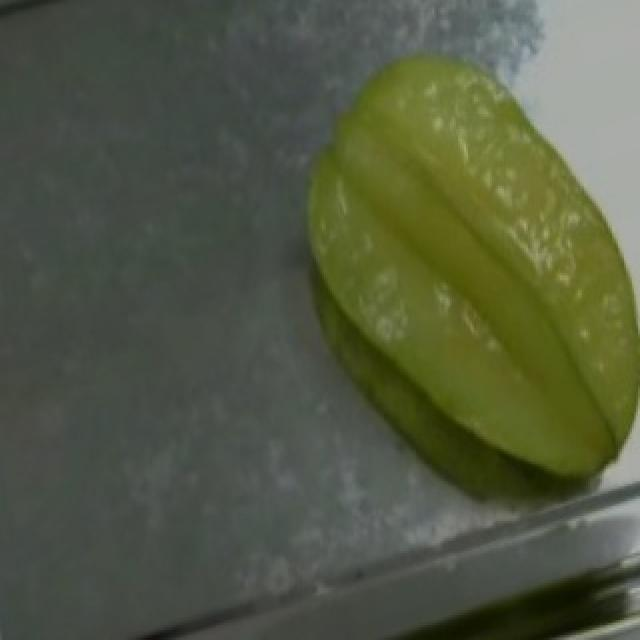fruit: (292, 20, 640, 476)
